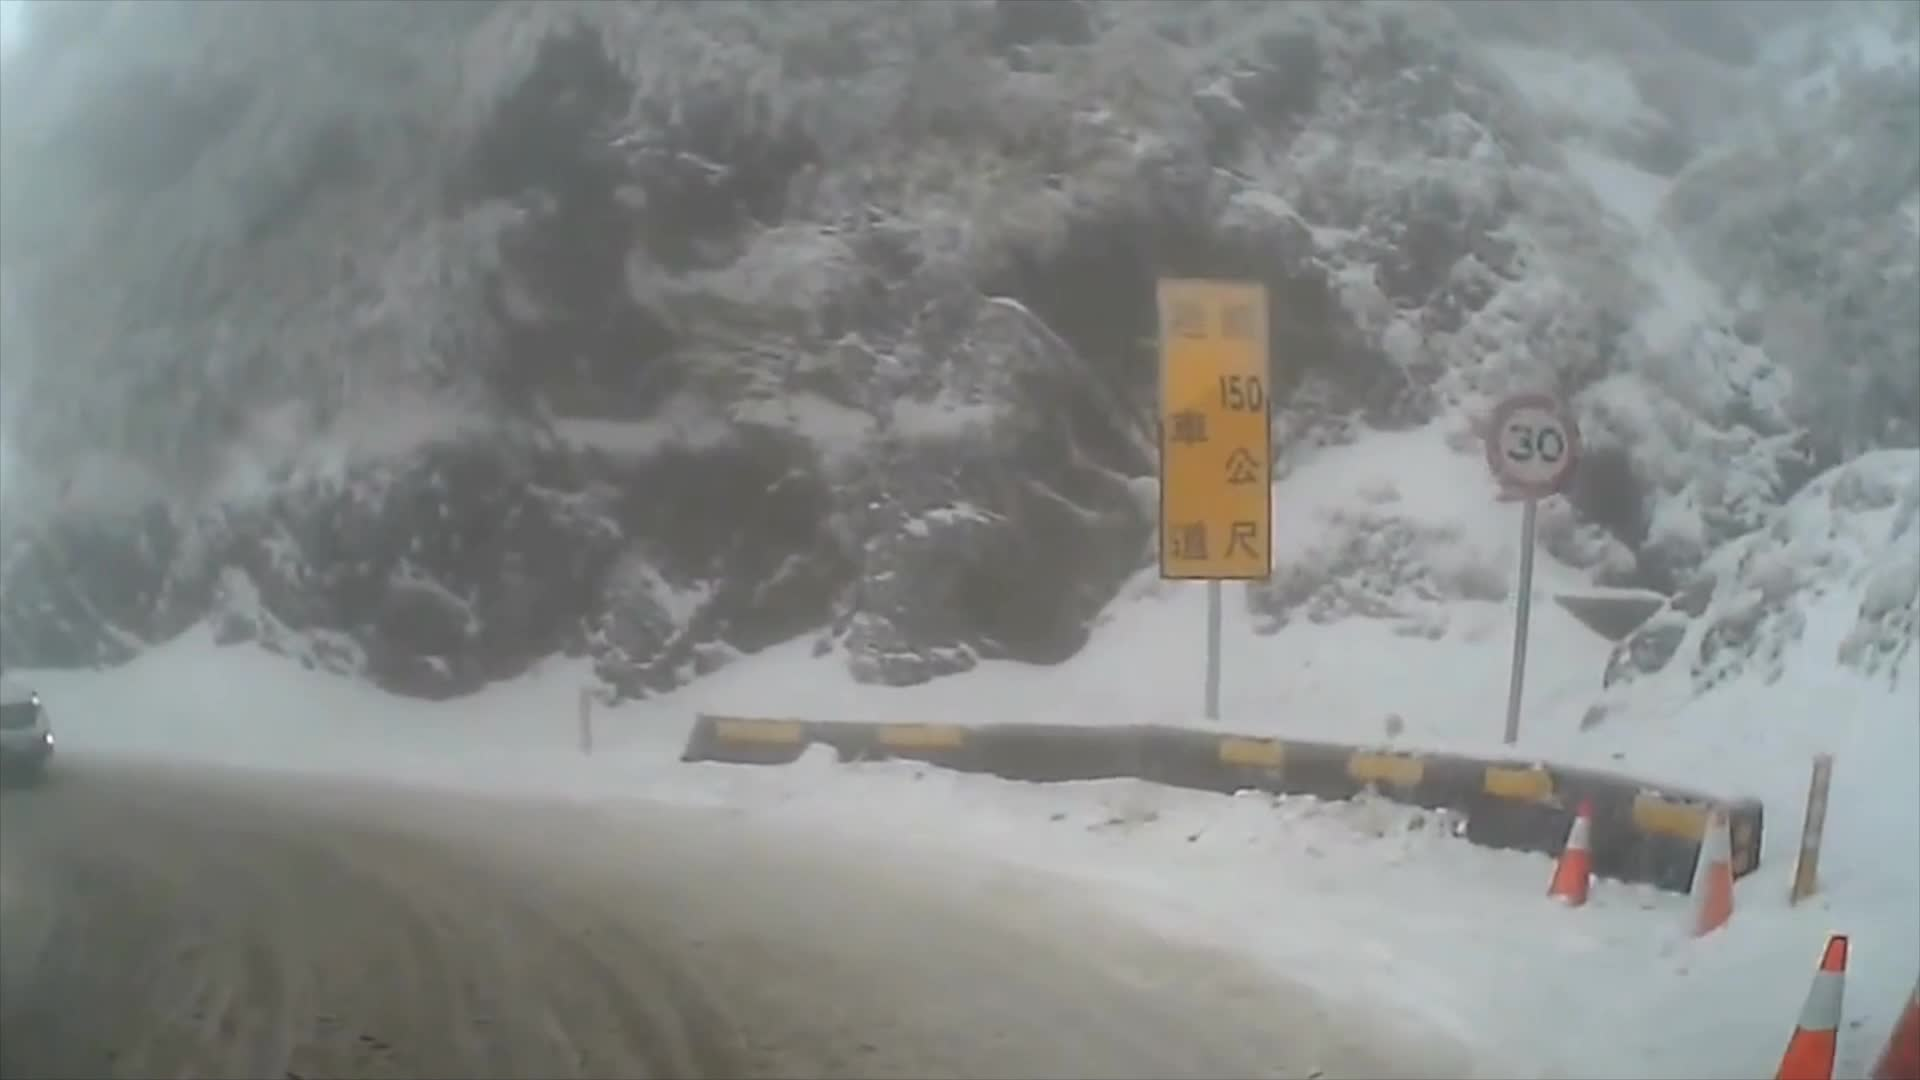vehicle: (0, 673, 53, 787)
